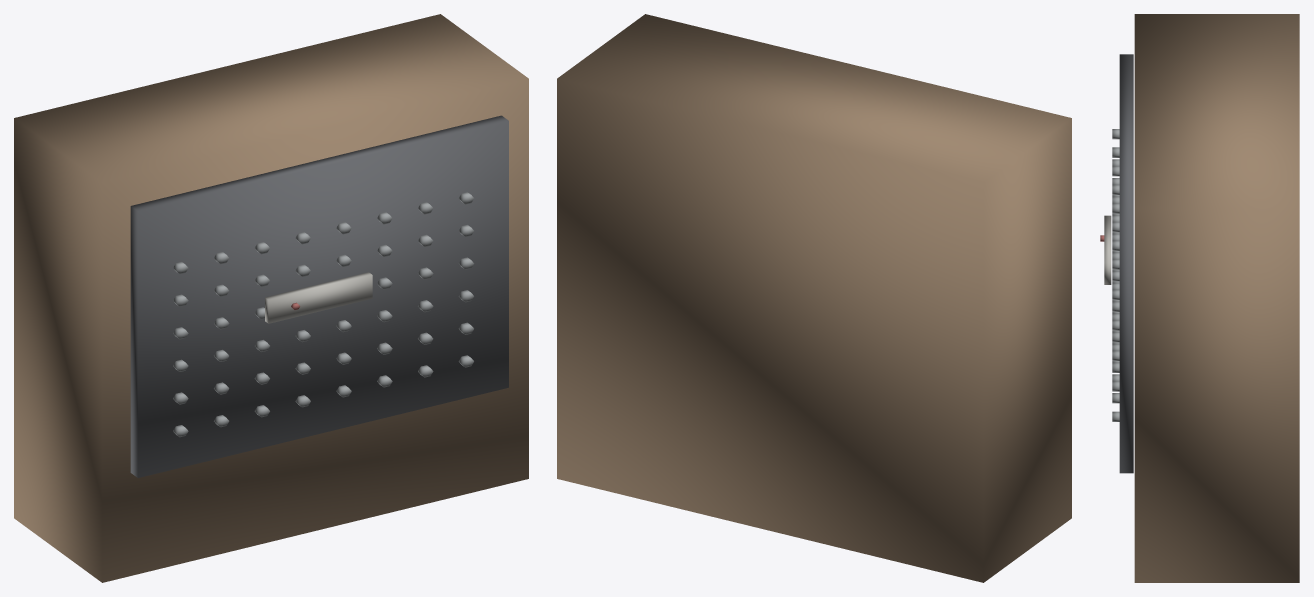
File: telephone_switchboard__squat.glb
The picture shows the model from 3 angles, left to right: view 1: azimuth 30°, elevation 25°; view 2: azimuth 150°, elevation 25°; view 3: azimuth 270°, elevation 25°; orthographic projection. The views are drawn at different scales.
Parts seen in each view (by area): view 1: world; view 2: world; view 3: world.
Boxes of the visible parts, bbox=[...] form: world: bbox=[14, 14, 528, 582]; world: bbox=[557, 14, 1071, 582]; world: bbox=[1100, 14, 1299, 582].
Size of the model in its own units: 1.26 by 1.13 by 0.5476.
